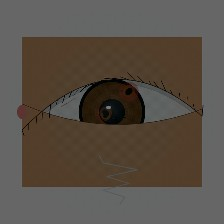foreign_body_visible: (86, 98, 125, 128)
